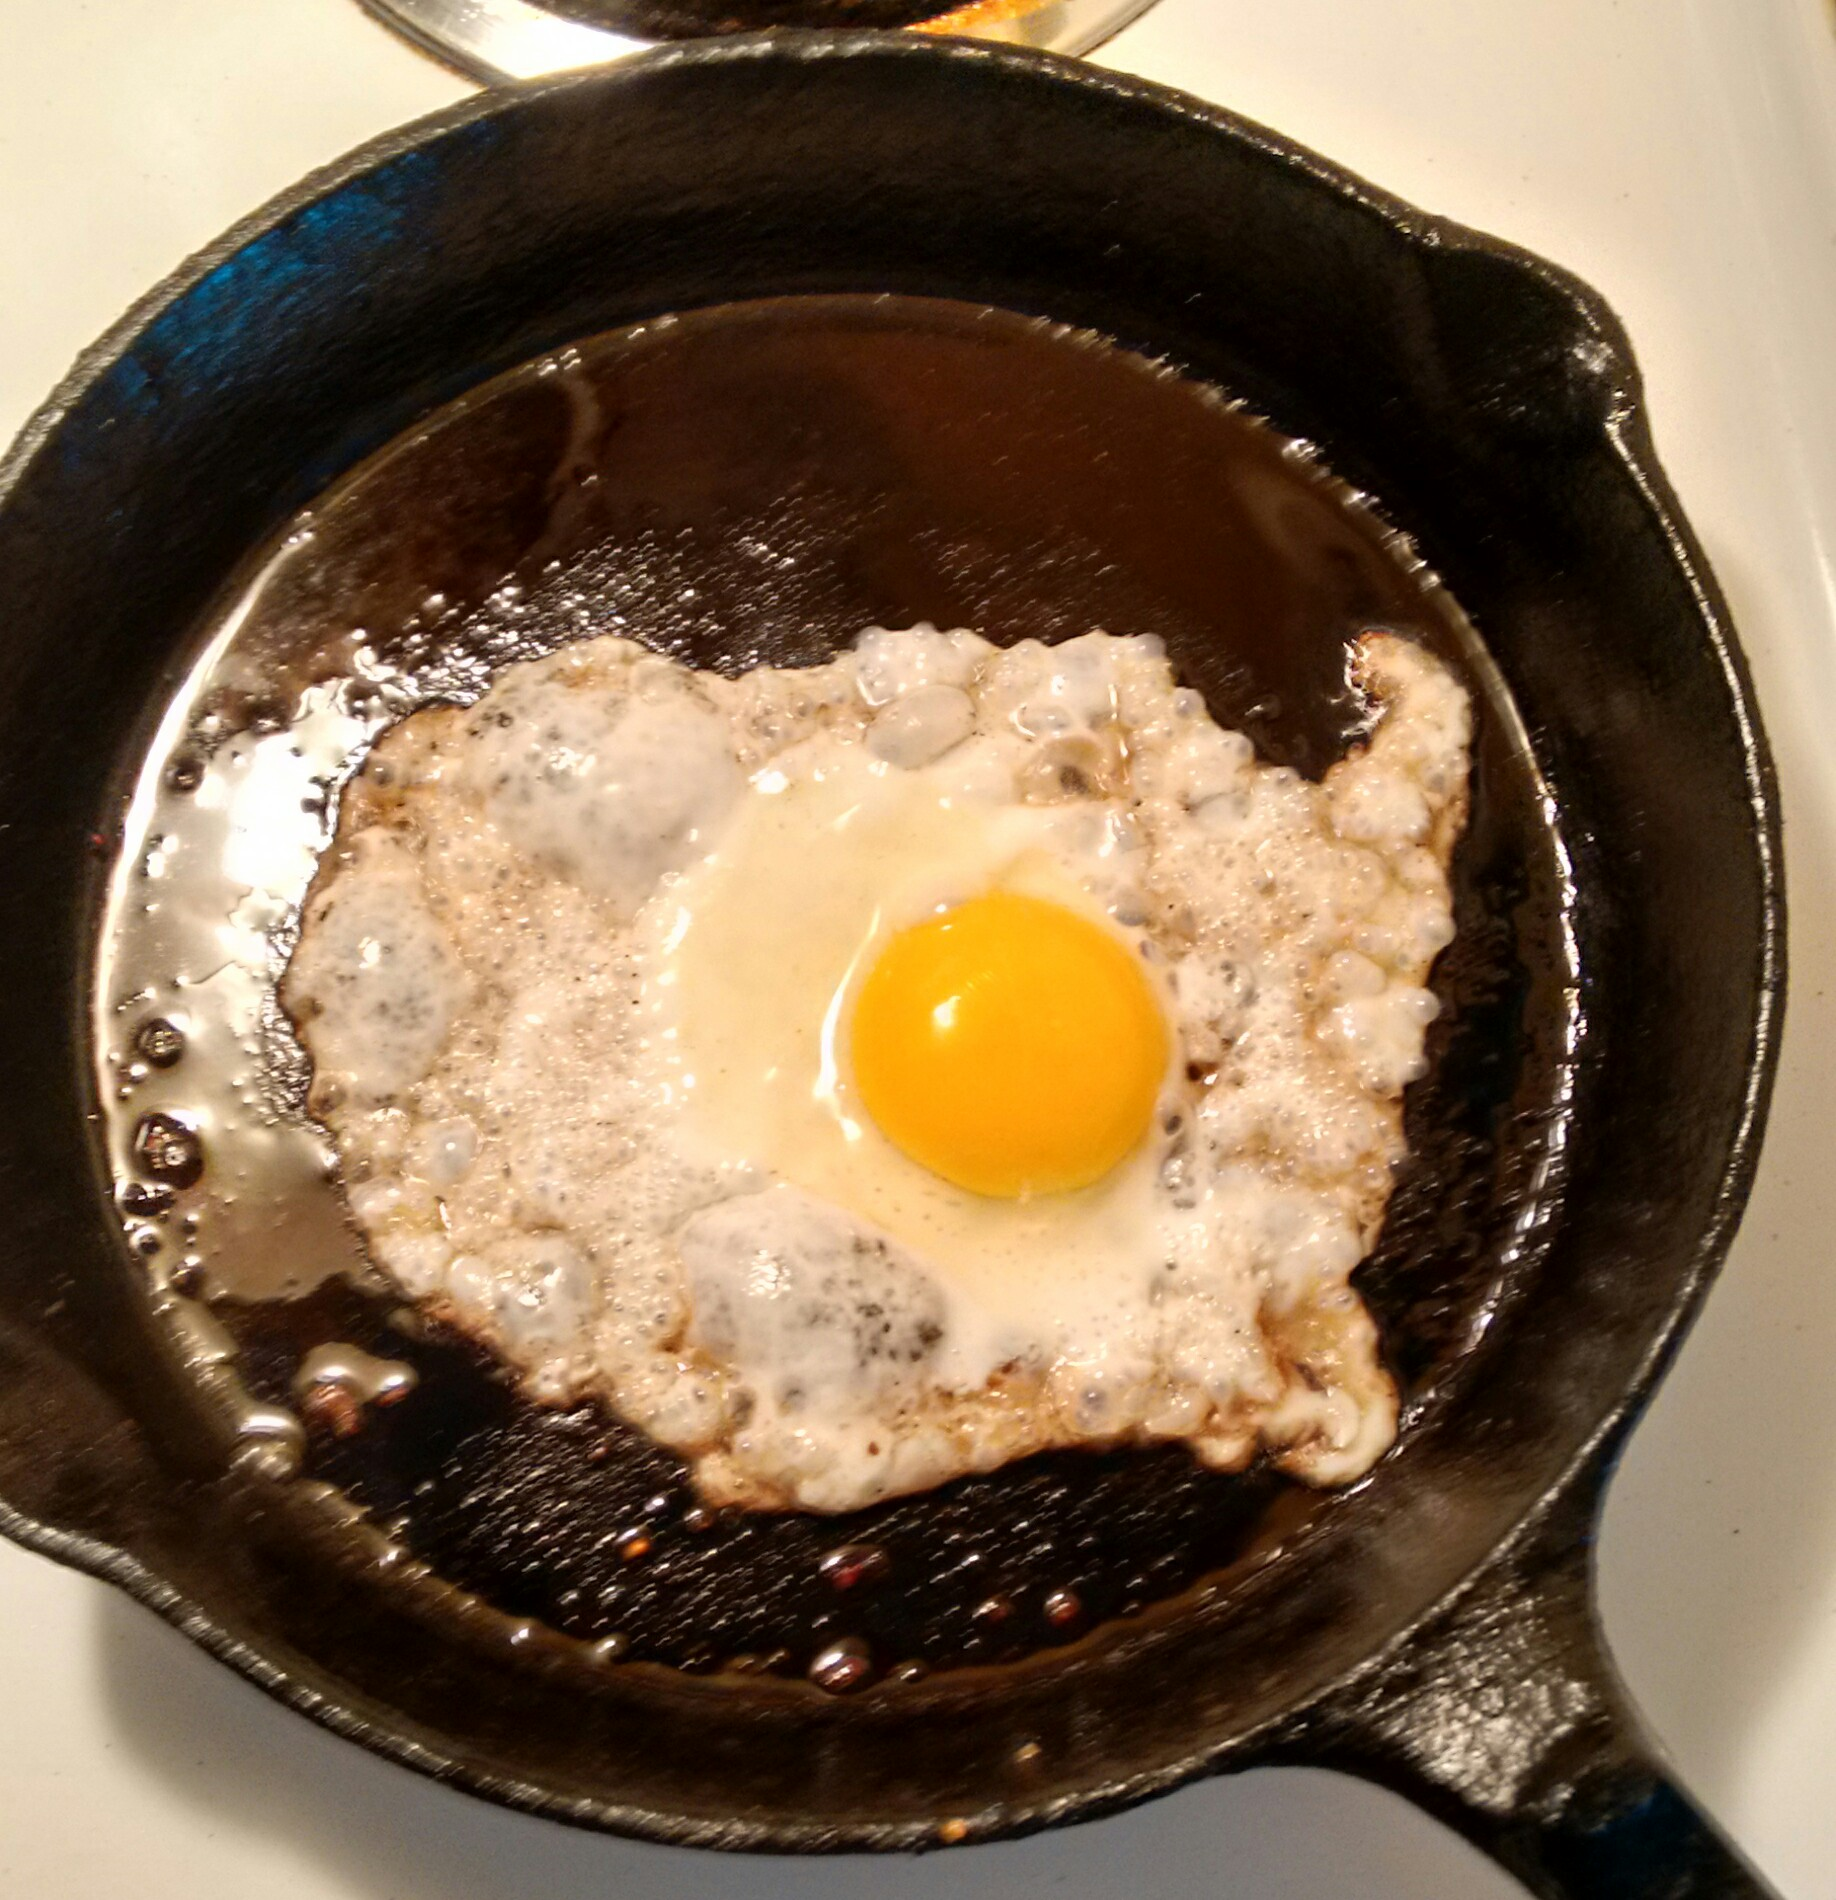fried egg: (455, 682, 1344, 1413)
